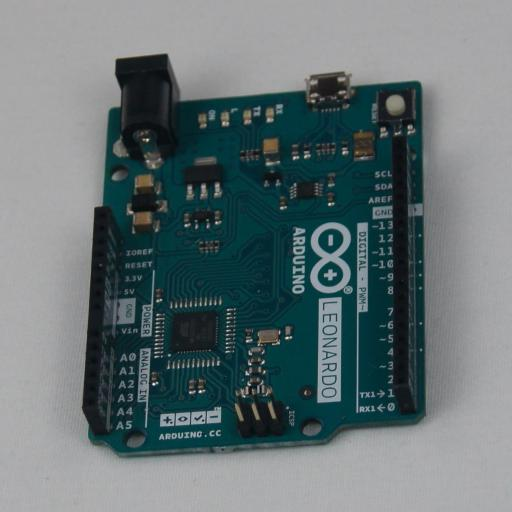Arduino Leonardo: (82, 54, 426, 458)
